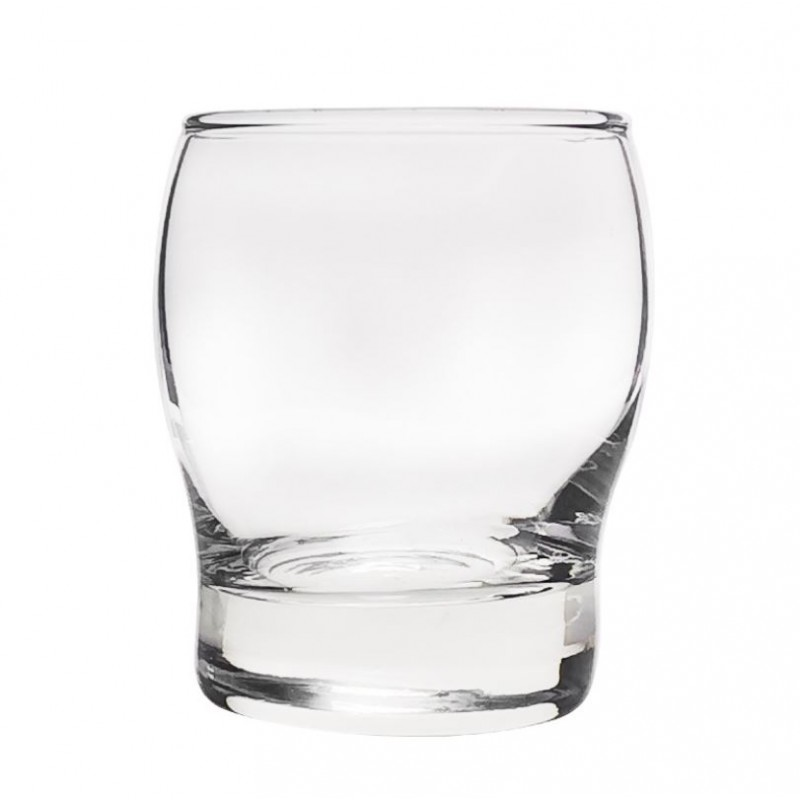glass: (154, 104, 650, 739)
